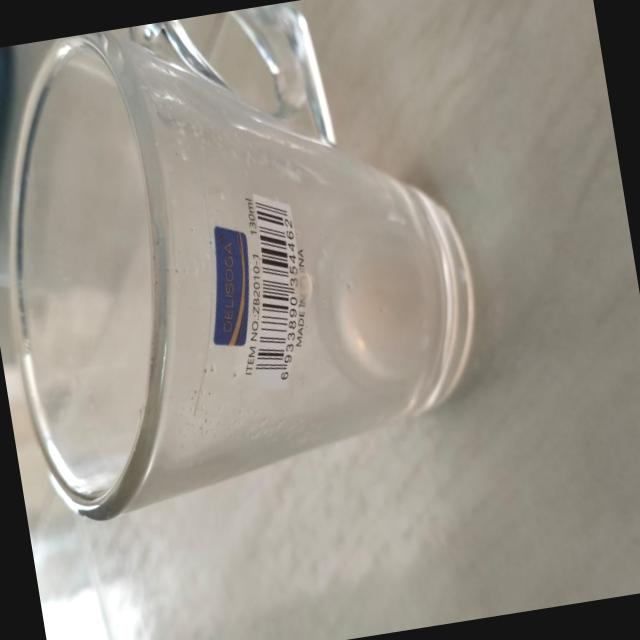glass-VX4N: (0, 0, 505, 531)
